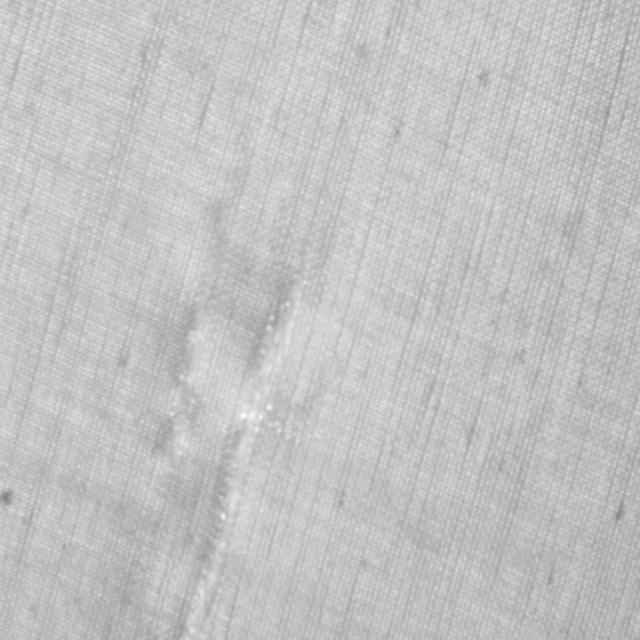thread error: (176, 245, 303, 639), (150, 271, 215, 475)
